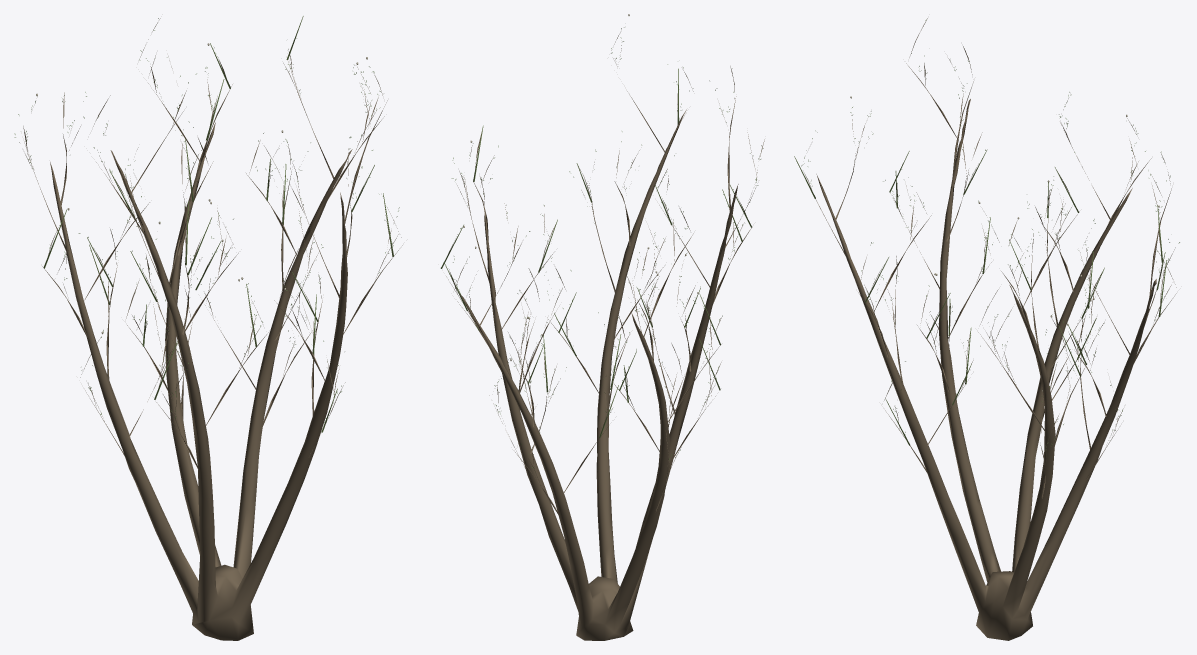
File: Bruyere_0_Niveau1.fbx
The picture shows the model from 3 angles, left to right: view 1: azimuth 30°, elevation 25°; view 2: azimuth 150°, elevation 25°; view 3: azimuth 270°, elevation 25°; orthographic projection. The views are drawn at different scales.
Visible parts, largest first — view 1: Bruyere_0_Niveau1; view 2: Bruyere_0_Niveau1; view 3: Bruyere_0_Niveau1.
Boxes of the visible parts, x1,y1,x2,y2 form: Bruyere_0_Niveau1: (14, 16, 402, 640); Bruyere_0_Niveau1: (440, 14, 764, 640); Bruyere_0_Niveau1: (794, 18, 1179, 640).
Size of the model in its own units: 82.58 by 157 by 96.97.
